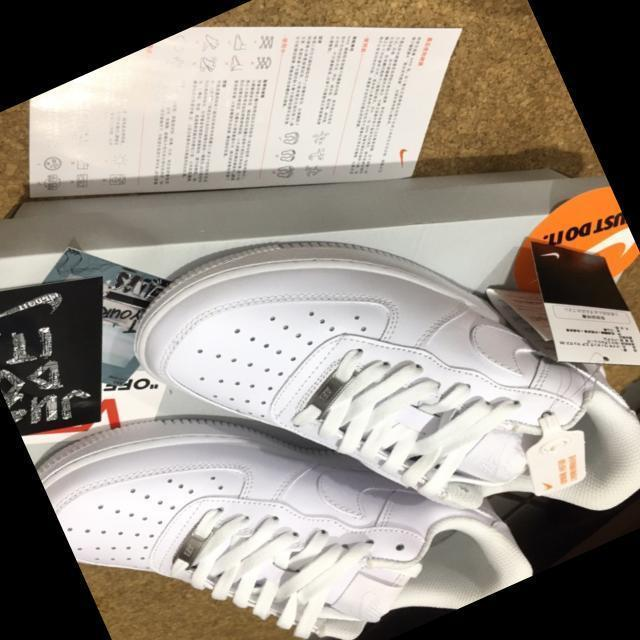nike original air force: (87, 125, 640, 640), (31, 287, 539, 640)
